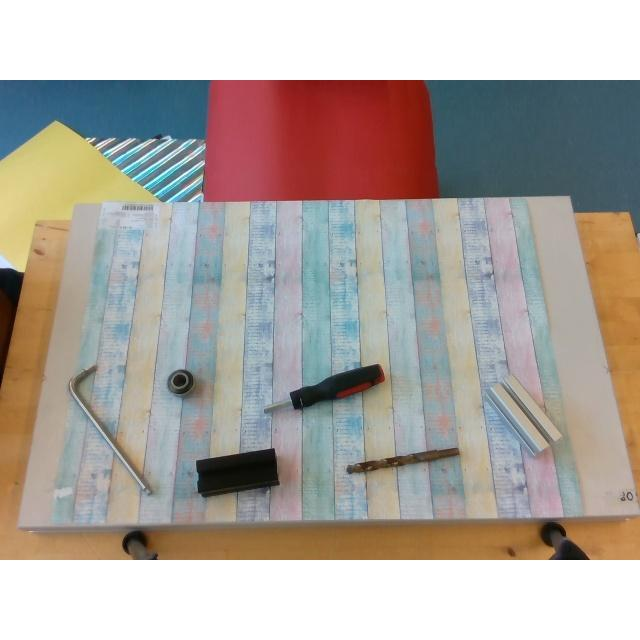AllenKey: (67, 364, 151, 492)
Bearing2: (166, 370, 194, 394)
Drill: (346, 447, 458, 473)
S40_40_B: (196, 448, 278, 497)
S40_40_G: (490, 374, 562, 444)
